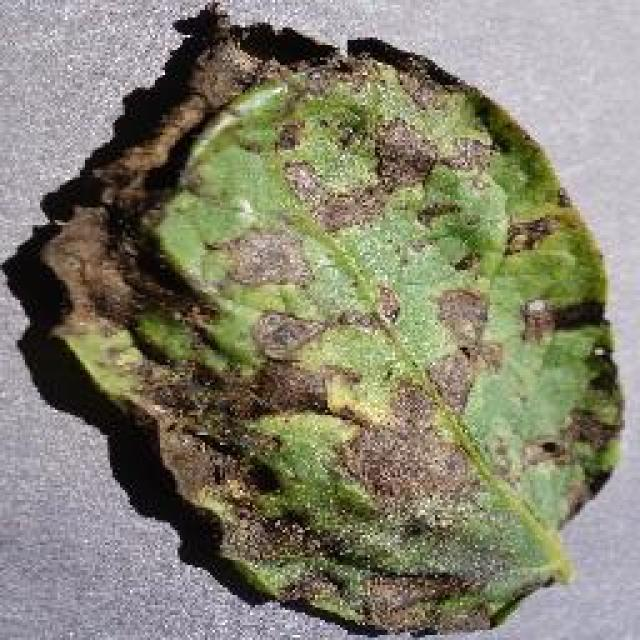early_blight: (25, 0, 627, 638)
